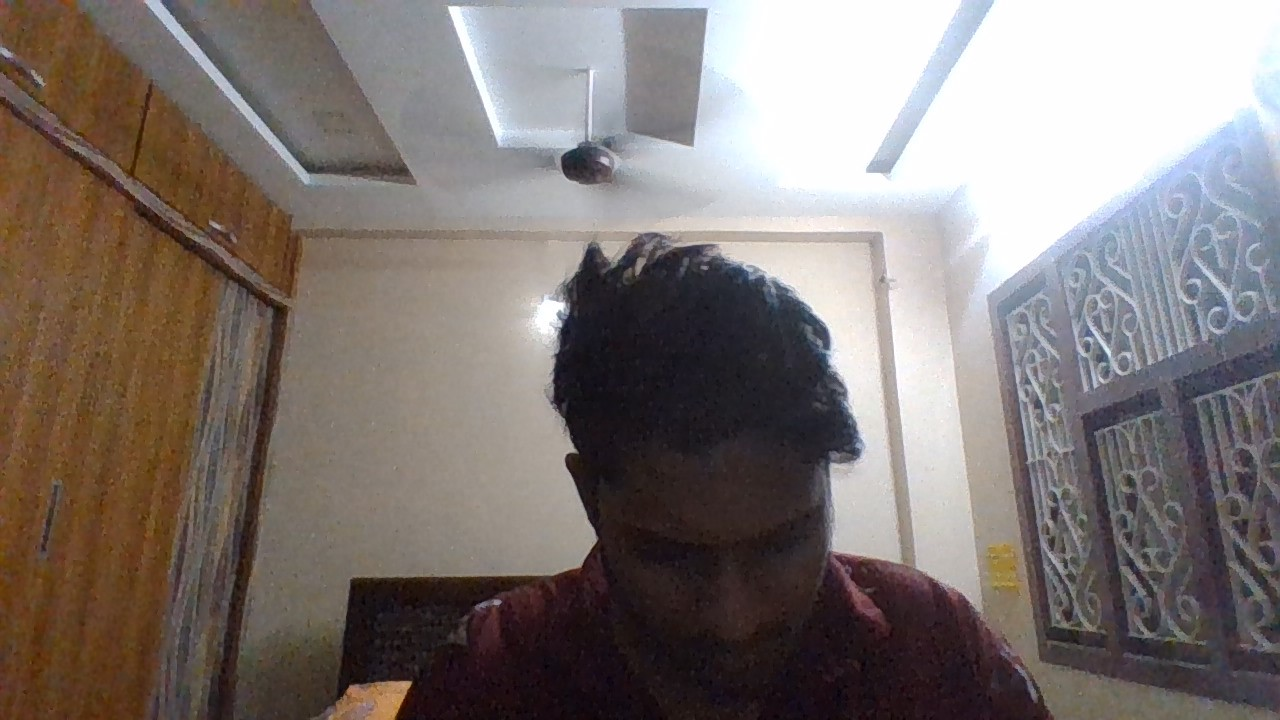person: (538, 160, 1016, 720)
